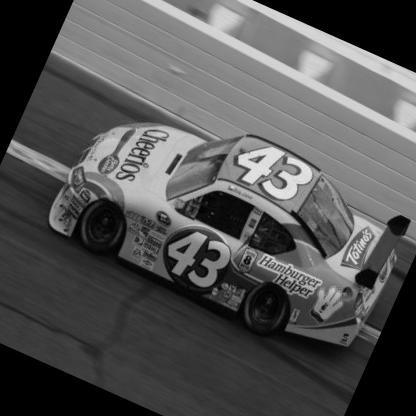car: (25, 66, 416, 387)
